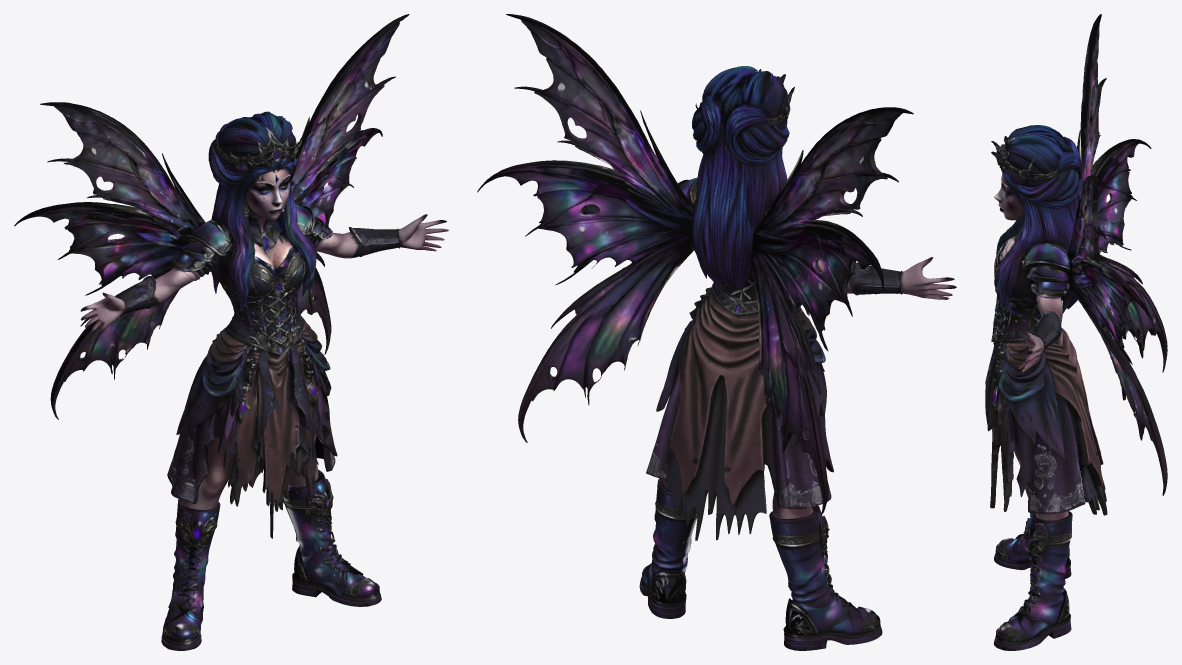
Rendered from dark-fairy-boss_v9.glb.
3 renders of one model, left to right at view 1: azimuth 30°, elevation 25°; view 2: azimuth 150°, elevation 25°; view 3: azimuth 270°, elevation 25°, orthographic. The views are drawn at different scales.
Parts seen in each view (by area): view 1: dark-fairy-queen; view 2: dark-fairy-queen; view 3: dark-fairy-queen.
Part boxes in pixels (<box>): dark-fairy-queen: <box>14,14,448,650</box>; dark-fairy-queen: <box>477,14,956,650</box>; dark-fairy-queen: <box>985,14,1167,650</box>.
Bounding box in the file's own units: 1.22 × 1.66 × 0.5469.
1 material, 1 textured.
